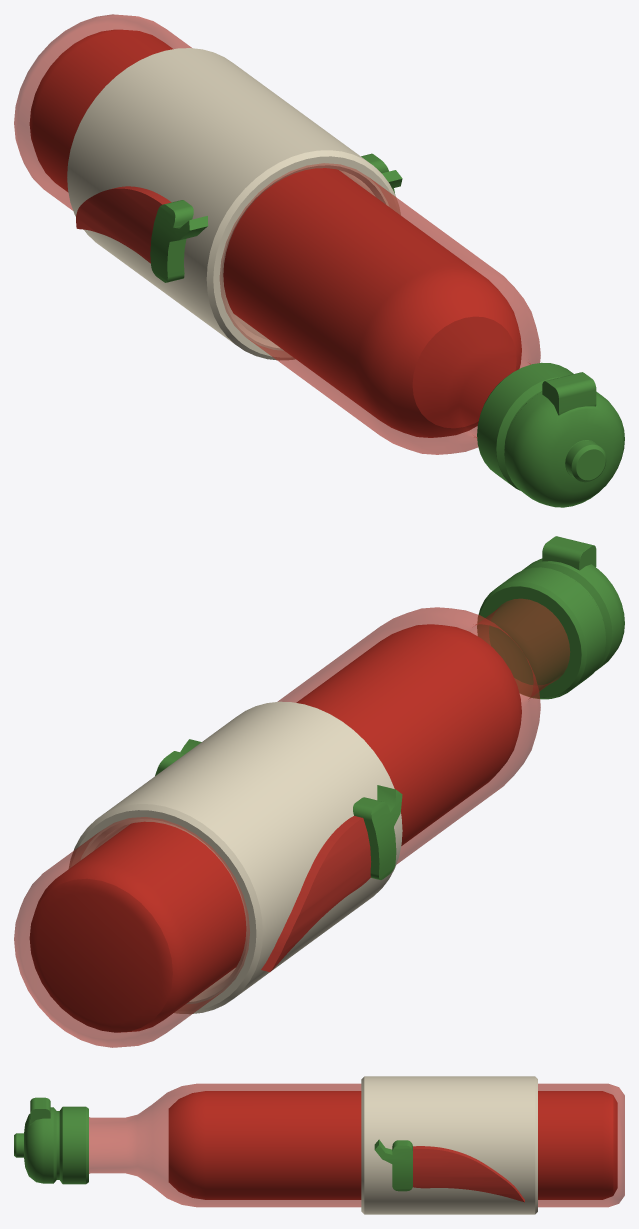
Rendered from w_cig.glb.
3 renders of one model, top to bottom at view 1: azimuth 30°, elevation 25°; view 2: azimuth 150°, elevation 25°; view 3: azimuth 270°, elevation 25°, orthographic. The views are drawn at different scales.
Visible parts, largest first — view 1: bottle_wzN__glass__gcc3d2e66, sauce_wzB__sauce__pa82219, label_wzA__label__pddd4bc, tip_wzB__green__p4a8a3c, chili_wzN__chili__pb8352a, chili_wzN__green__p4a8a3c; view 2: bottle_wzN__glass__gcc3d2e66, sauce_wzB__sauce__pa82219, label_wzA__label__pddd4bc, tip_wzB__green__p4a8a3c, chili_wzN__chili__pb8352a, chili_wzN__green__p4a8a3c; view 3: bottle_wzN__glass__gcc3d2e66, sauce_wzB__sauce__pa82219, label_wzA__label__pddd4bc, tip_wzB__green__p4a8a3c, chili_wzN__chili__pb8352a, chili_wzN__green__p4a8a3c.
Boxes of the visible parts, x1,y1,x2,y2 form: bottle_wzN__glass__gcc3d2e66: [14, 14, 540, 454]; sauce_wzB__sauce__pa82219: [29, 29, 521, 437]; label_wzA__label__pddd4bc: [67, 48, 400, 360]; tip_wzB__green__p4a8a3c: [477, 362, 624, 507]; chili_wzN__chili__pb8352a: [76, 186, 171, 263]; chili_wzN__green__p4a8a3c: [150, 153, 402, 282]; bottle_wzN__glass__gcc3d2e66: [14, 599, 569, 1047]; sauce_wzB__sauce__pa82219: [29, 624, 521, 1032]; label_wzA__label__pddd4bc: [69, 701, 402, 1013]; tip_wzB__green__p4a8a3c: [477, 536, 624, 699]; chili_wzN__chili__pb8352a: [261, 816, 371, 971]; chili_wzN__green__p4a8a3c: [155, 739, 402, 879]; bottle_wzN__glass__gcc3d2e66: [89, 1083, 624, 1207]; sauce_wzB__sauce__pa82219: [168, 1091, 617, 1199]; label_wzA__label__pddd4bc: [361, 1076, 537, 1214]; tip_wzB__green__p4a8a3c: [14, 1097, 88, 1184]; chili_wzN__chili__pb8352a: [413, 1146, 524, 1202]; chili_wzN__green__p4a8a3c: [374, 1139, 412, 1191].
Size of the model in its own units: 0.055 by 0.047 by 0.2075.
